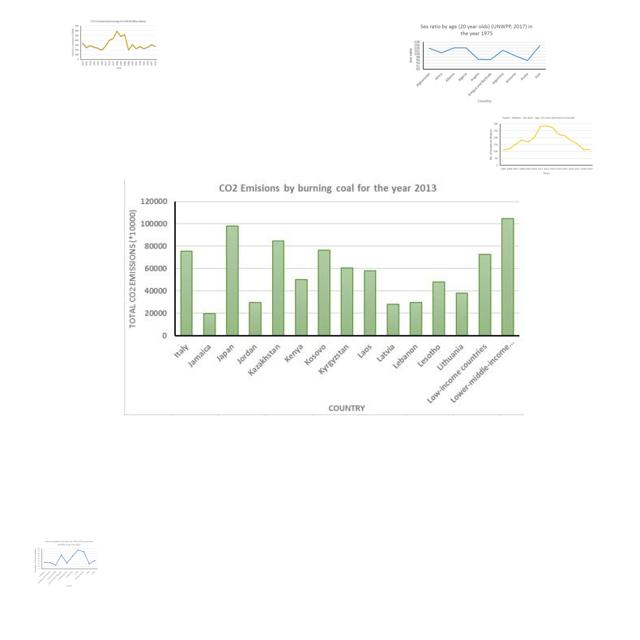Graph: (124, 179, 524, 416), (405, 21, 548, 105), (487, 115, 595, 177), (71, 19, 158, 70), (33, 539, 99, 587)
